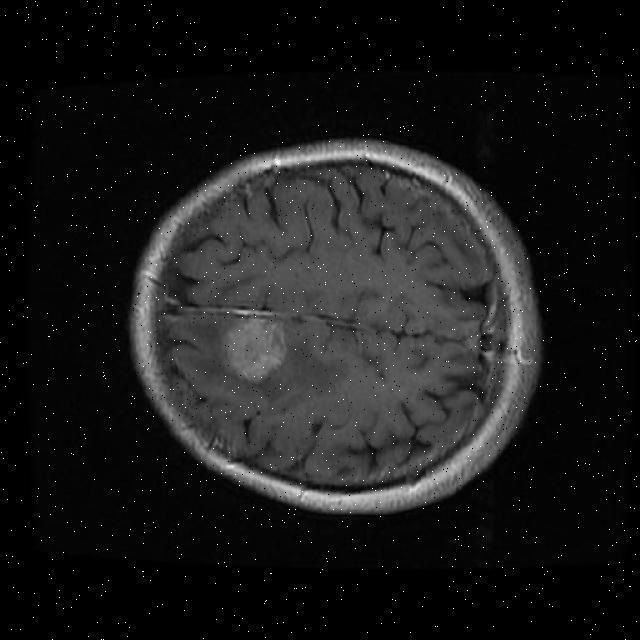Meningioma: (223, 320, 286, 381)
